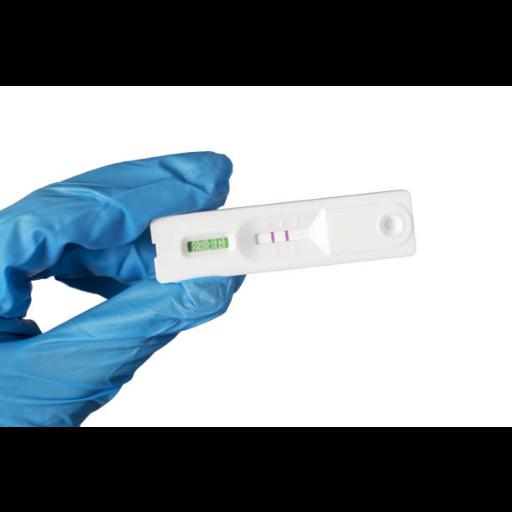Pos: (150, 189, 418, 283)
